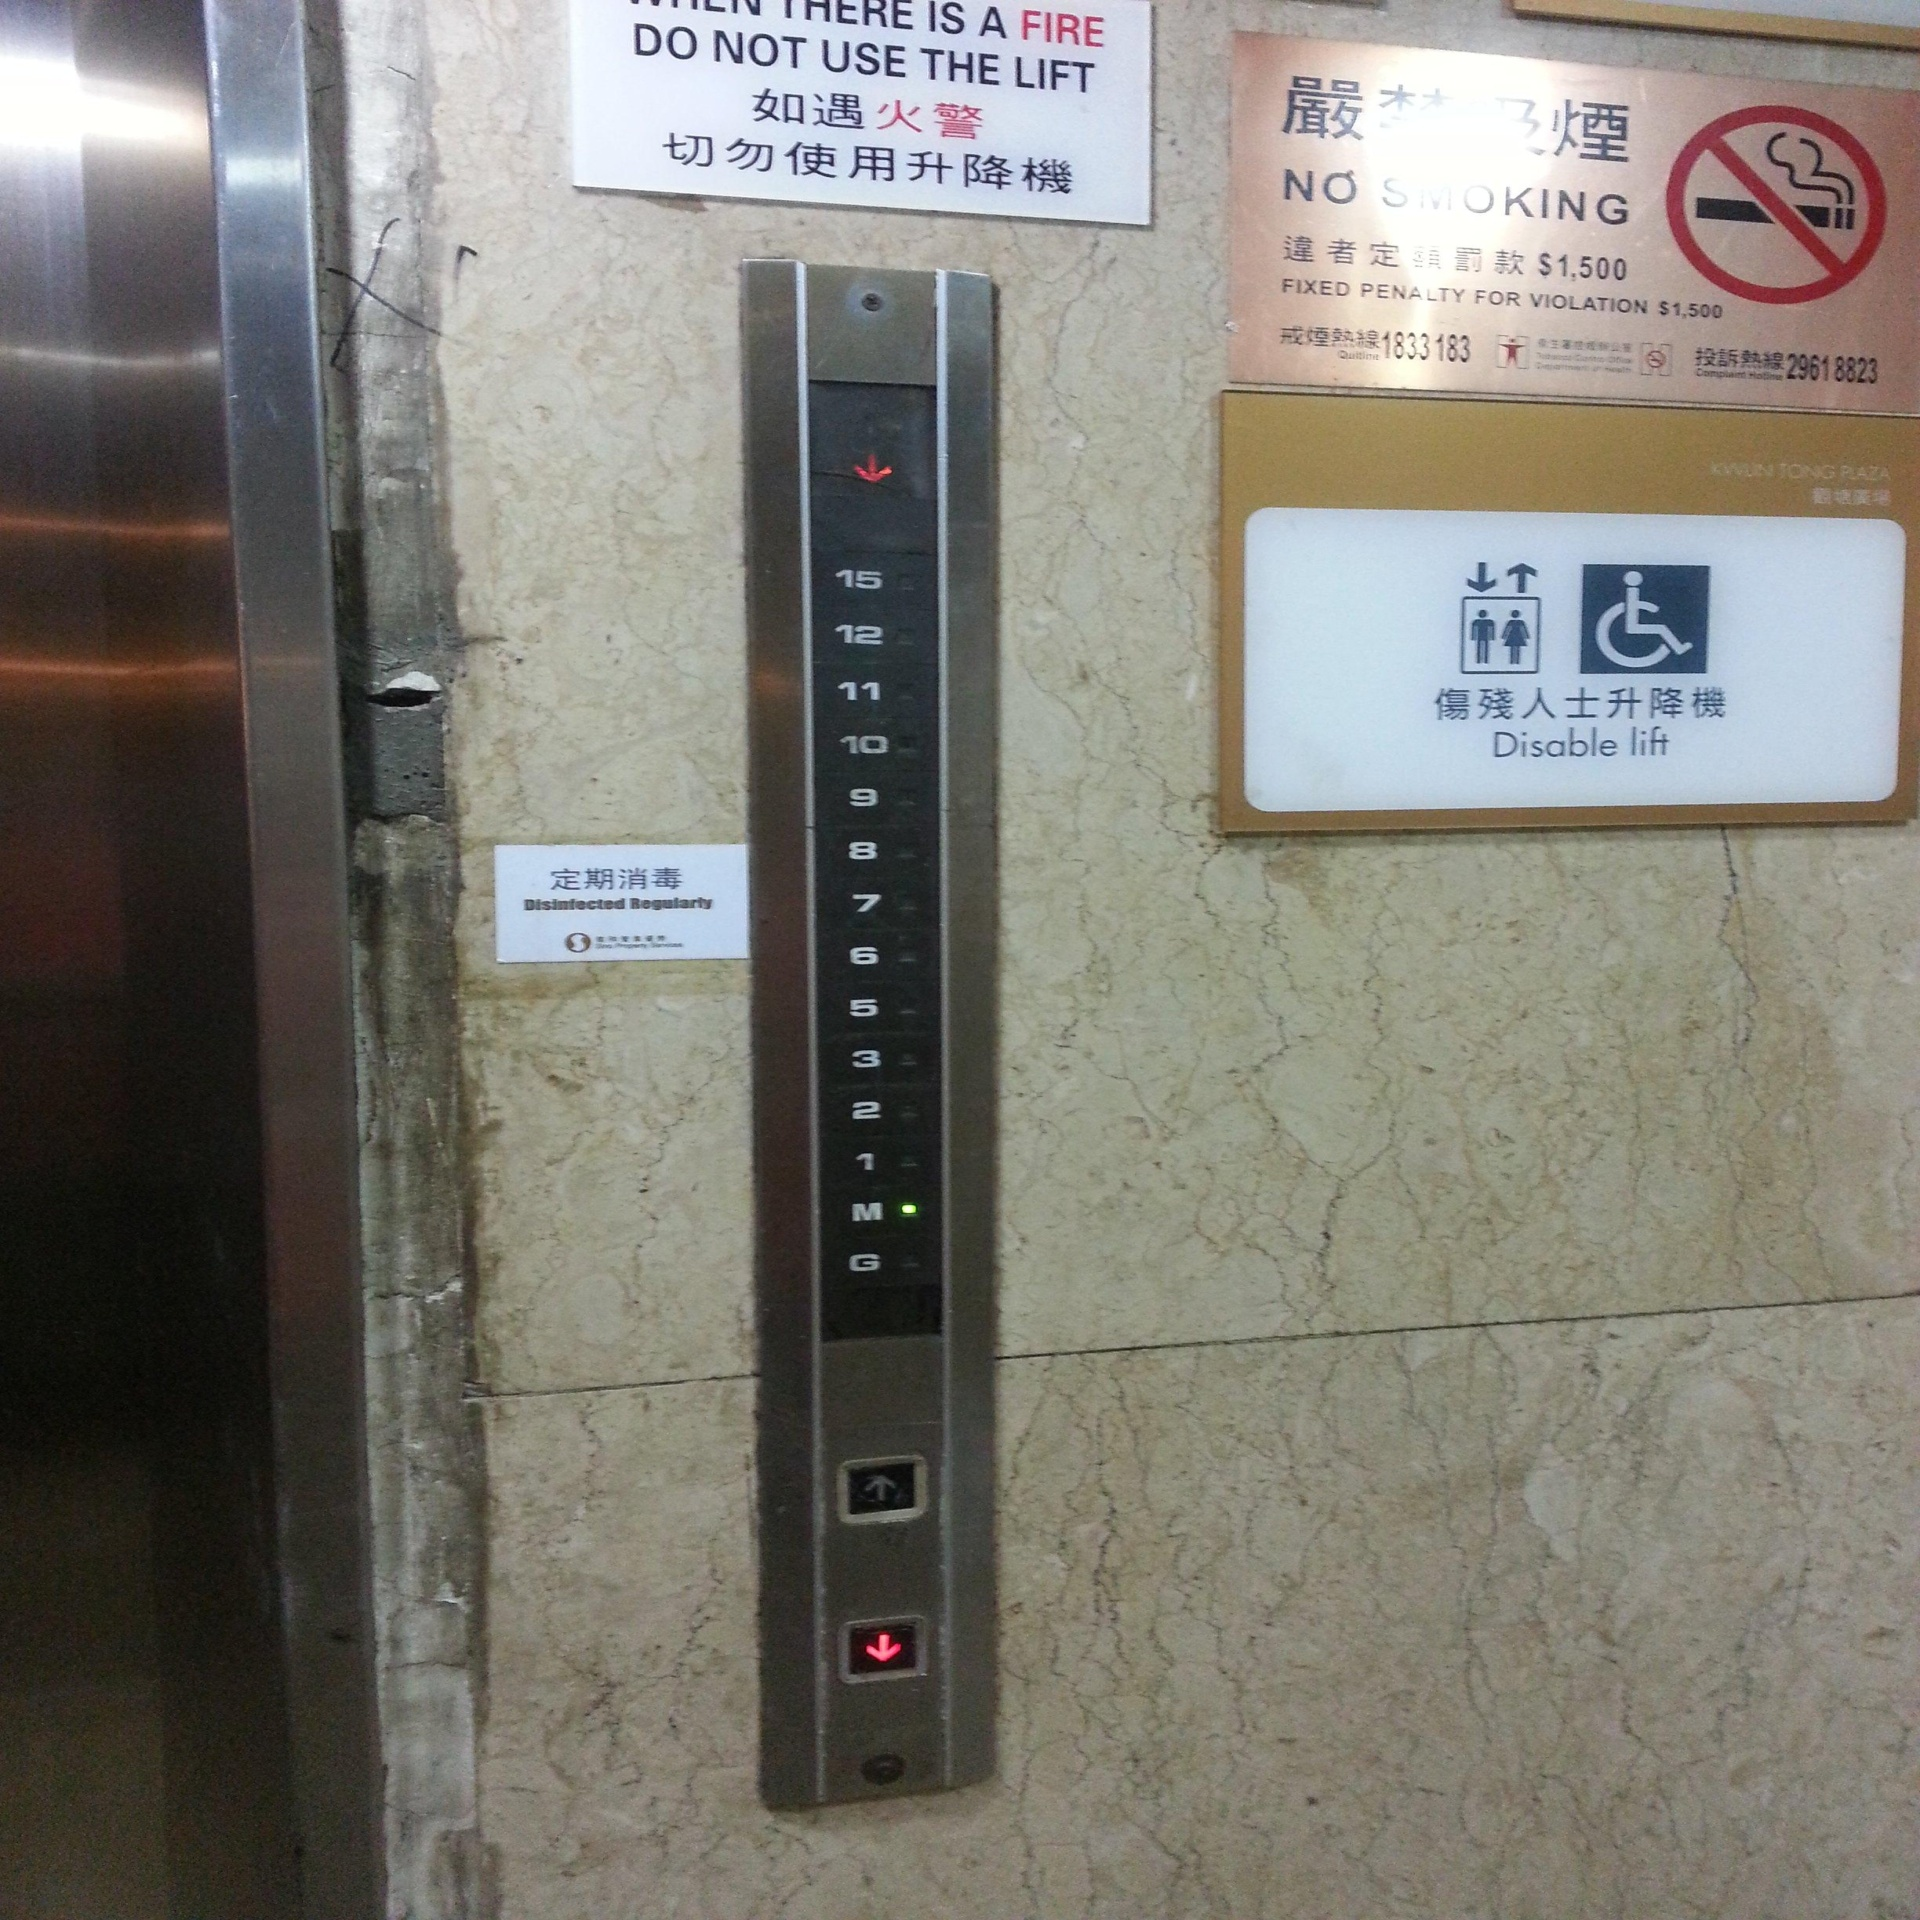1: (812, 1131, 946, 1196)
10: (811, 712, 944, 781)
11: (811, 656, 944, 724)
12: (809, 600, 942, 668)
15: (809, 543, 942, 614)
2: (811, 1080, 944, 1145)
3: (811, 1023, 944, 1092)
5: (811, 974, 944, 1043)
6: (811, 921, 944, 988)
7: (811, 870, 944, 939)
8: (811, 819, 944, 886)
9: (811, 767, 944, 833)
G: (812, 1229, 948, 1296)
M: (812, 1176, 946, 1243)
down: (837, 1614, 928, 1683)
led: (807, 383, 939, 505)
up: (835, 1452, 928, 1526)
